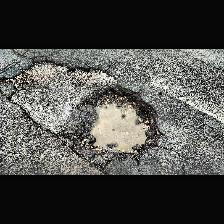pothole: (79, 84, 161, 160)
